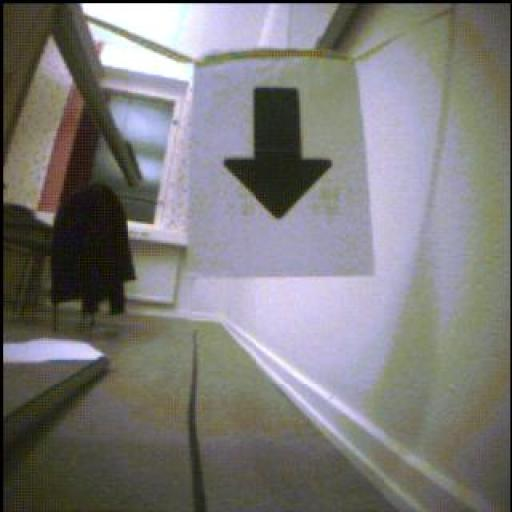Arrow: (225, 89, 332, 219)
